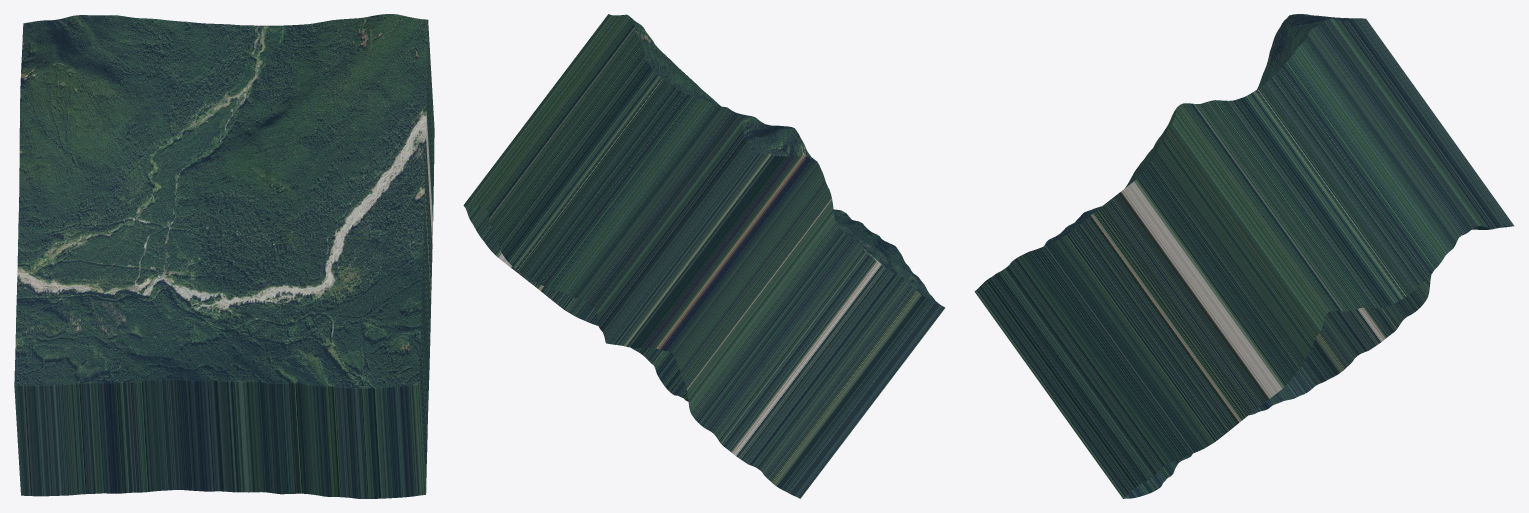
The picture shows the model from 3 angles, left to right: view 1: azimuth 30°, elevation 25°; view 2: azimuth 150°, elevation 25°; view 3: azimuth 270°, elevation 25°; orthographic projection. The views are drawn at different scales.
Bounding box in the file's own units: 5927 × 5229 × 6349.
1 material, 1 textured.
